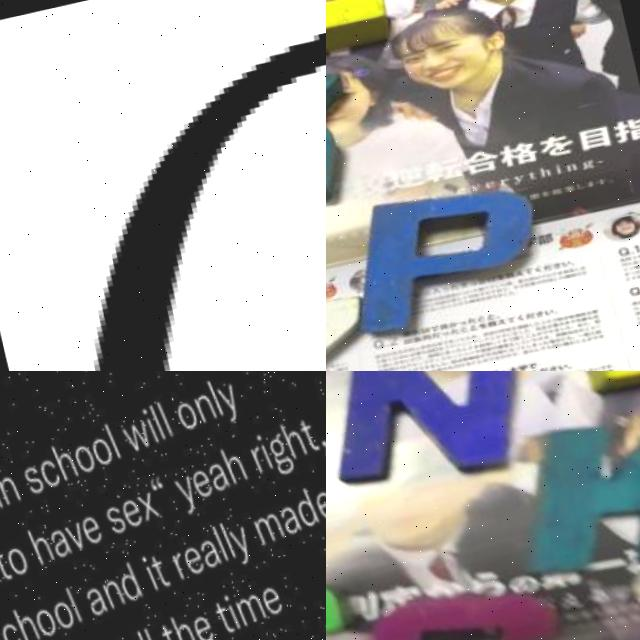G: (10, 0, 326, 371)
K: (513, 408, 640, 596)
N: (328, 371, 538, 497)
P: (332, 179, 543, 339)
S: (331, 574, 565, 640)
